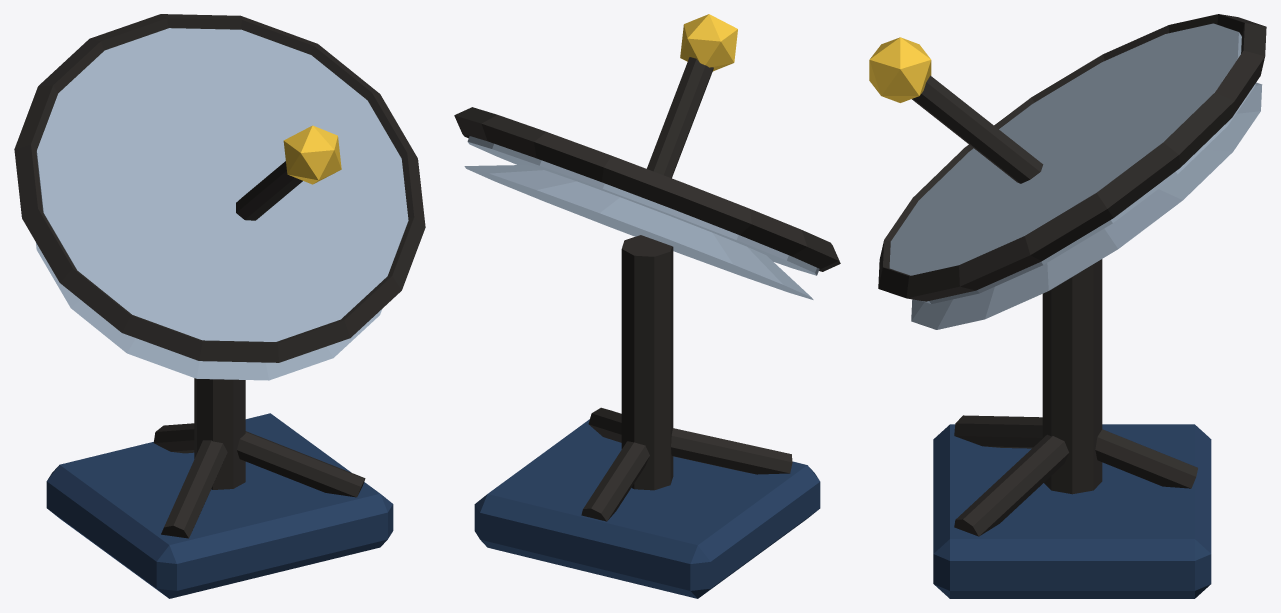
Rendered from starlink.glb.
3 renders of one model, left to right at view 1: azimuth 30°, elevation 25°; view 2: azimuth 150°, elevation 25°; view 3: azimuth 270°, elevation 25°, orthographic. The views are drawn at different scales.
Visible parts, largest first — view 1: starlink-dish-face, starlink-navy-base, starlink-dish-rim, starlink-dish-bowl, starlink-black-stem, starlink-tripod-leg-1, starlink-tripod-leg-0, starlink-gold-feed, starlink-feed-arm, starlink-tripod-leg-2; view 2: starlink-navy-base, starlink-black-stem, starlink-dish-rim, starlink-dish-bowl, starlink-dish-face, starlink-tripod-leg-0, starlink-feed-arm, starlink-tripod-leg-2, starlink-gold-feed, starlink-tripod-leg-1; view 3: starlink-navy-base, starlink-dish-face, starlink-dish-rim, starlink-black-stem, starlink-dish-bowl, starlink-feed-arm, starlink-tripod-leg-1, starlink-tripod-leg-2, starlink-gold-feed, starlink-tripod-leg-0.
Boxes of the visible parts, left/top/right/bottom form: starlink-dish-face: left=36, top=28, right=408, bottom=341; starlink-navy-base: left=46, top=413, right=393, bottom=598; starlink-dish-rim: left=14, top=14, right=425, bottom=362; starlink-dish-bowl: left=35, top=242, right=382, bottom=380; starlink-black-stem: left=194, top=378, right=245, bottom=489; starlink-tripod-leg-1: left=237, top=431, right=365, bottom=497; starlink-tripod-leg-0: left=161, top=440, right=227, bottom=538; starlink-gold-feed: left=283, top=125, right=341, bottom=184; starlink-feed-arm: left=236, top=161, right=302, bottom=220; starlink-tripod-leg-2: left=153, top=423, right=194, bottom=453; starlink-navy-base: left=474, top=419, right=820, bottom=598; starlink-black-stem: left=621, top=235, right=673, bottom=490; starlink-dish-rim: left=454, top=107, right=840, bottom=271; starlink-dish-bowl: left=464, top=165, right=813, bottom=299; starlink-dish-face: left=467, top=136, right=819, bottom=275; starlink-tripod-leg-0: left=671, top=428, right=792, bottom=474; starlink-feed-arm: left=647, top=57, right=713, bottom=178; starlink-tripod-leg-2: left=581, top=441, right=649, bottom=521; starlink-gold-feed: left=680, top=14, right=737, bottom=71; starlink-tripod-leg-1: left=588, top=407, right=621, bottom=442; starlink-navy-base: left=933, top=424, right=1211, bottom=598; starlink-dish-face: left=889, top=23, right=1255, bottom=303; starlink-dish-rim: left=878, top=14, right=1266, bottom=301; starlink-black-stem: left=1042, top=259, right=1102, bottom=494; starlink-dish-bowl: left=911, top=82, right=1262, bottom=329; starlink-feed-arm: left=912, top=75, right=1043, bottom=183; starlink-tripod-leg-1: left=954, top=434, right=1068, bottom=536; starlink-tripod-leg-2: left=1095, top=429, right=1197, bottom=488; starlink-gold-feed: left=869, top=37, right=931, bottom=102; starlink-tripod-leg-0: left=954, top=415, right=1042, bottom=448.
Size of the model in its own units: 0.8147 by 1 by 0.702.
